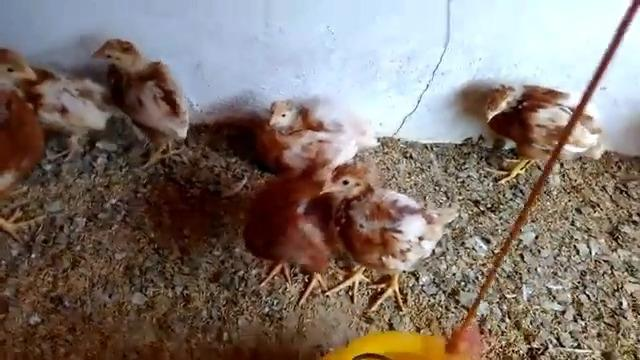AbNormal: (478, 82, 598, 192)
Normal: (324, 162, 439, 303)
